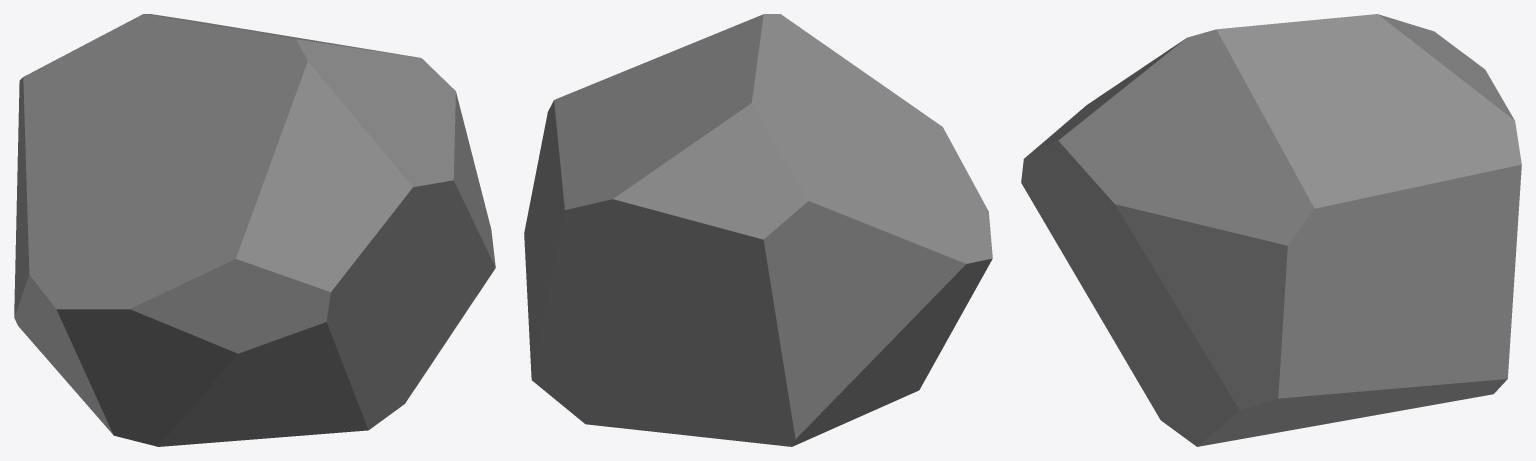
The model's file is Rock4.fbx.
The picture shows the model from 3 angles, left to right: view 1: azimuth 30°, elevation 25°; view 2: azimuth 150°, elevation 25°; view 3: azimuth 270°, elevation 25°; orthographic projection. The views are drawn at different scales.
Parts seen in each view (by area): view 1: Cube; view 2: Cube; view 3: Cube.
Boxes of the visible parts, x1,y1,x2,y2 form: Cube: (14, 14, 495, 446); Cube: (524, 14, 992, 446); Cube: (1021, 14, 1521, 446).
Bounding box in the file's own units: 1328 × 1028 × 1259.
